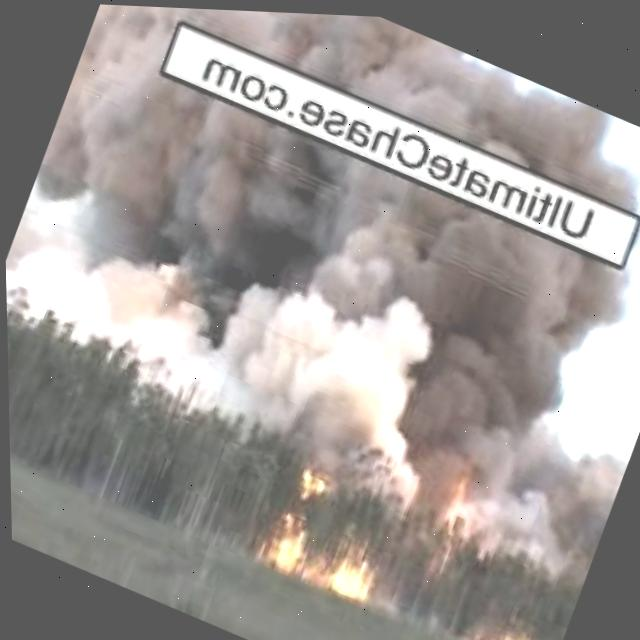Fire: (249, 462, 401, 606), (416, 460, 483, 564), (478, 615, 533, 640)
Smoke: (1, 37, 640, 533), (106, 4, 640, 207)
